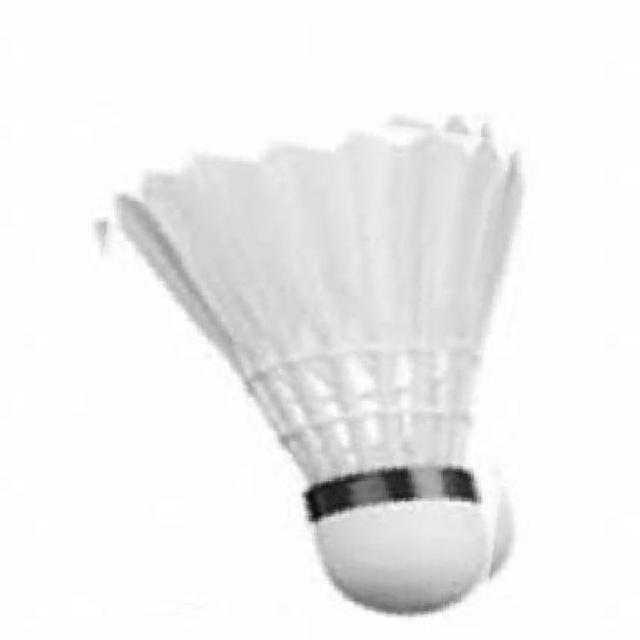Shuttlecock: (75, 101, 534, 617)
